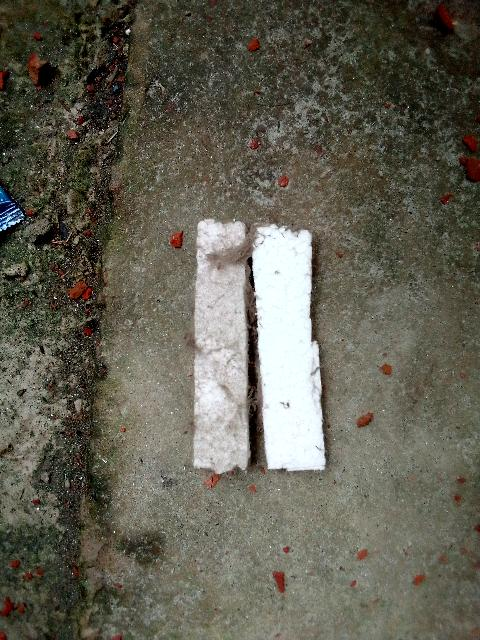cocksheet: (150, 198, 358, 501)
